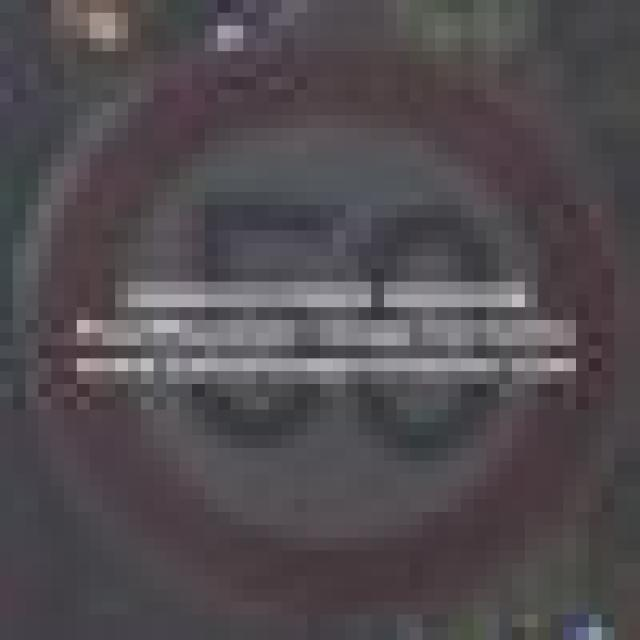speed_limit_30: (13, 12, 614, 602)
